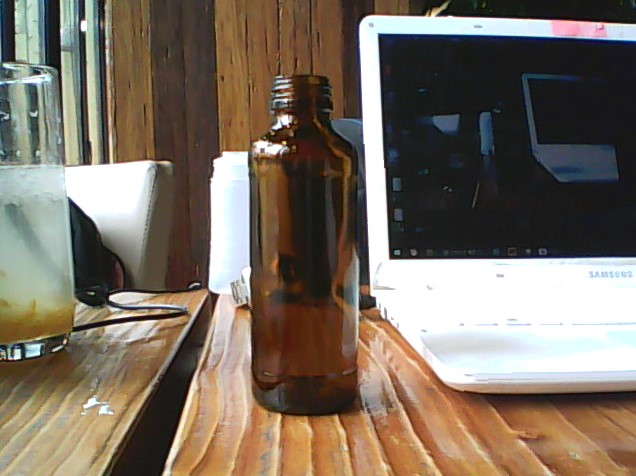Glass: (244, 68, 364, 422)
